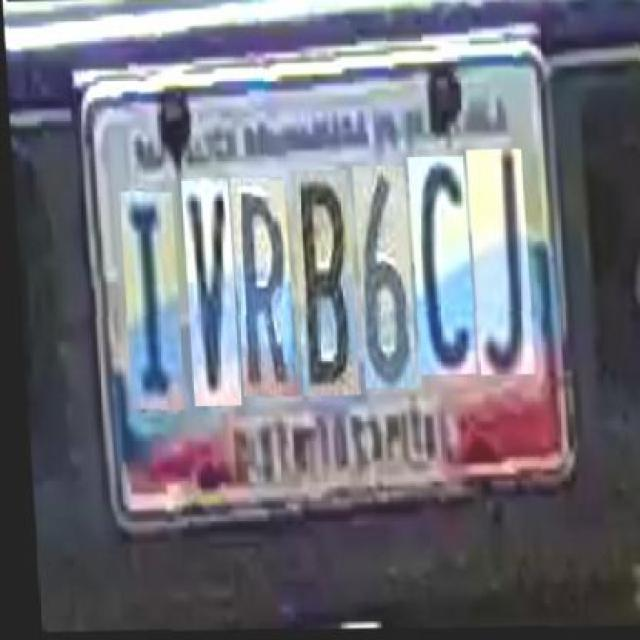6: (350, 164, 412, 387)
b: (286, 168, 354, 394)
c: (404, 154, 471, 372)
i: (115, 192, 180, 410)
j: (462, 146, 530, 372)
r: (227, 177, 291, 395)
v: (178, 178, 235, 405)
